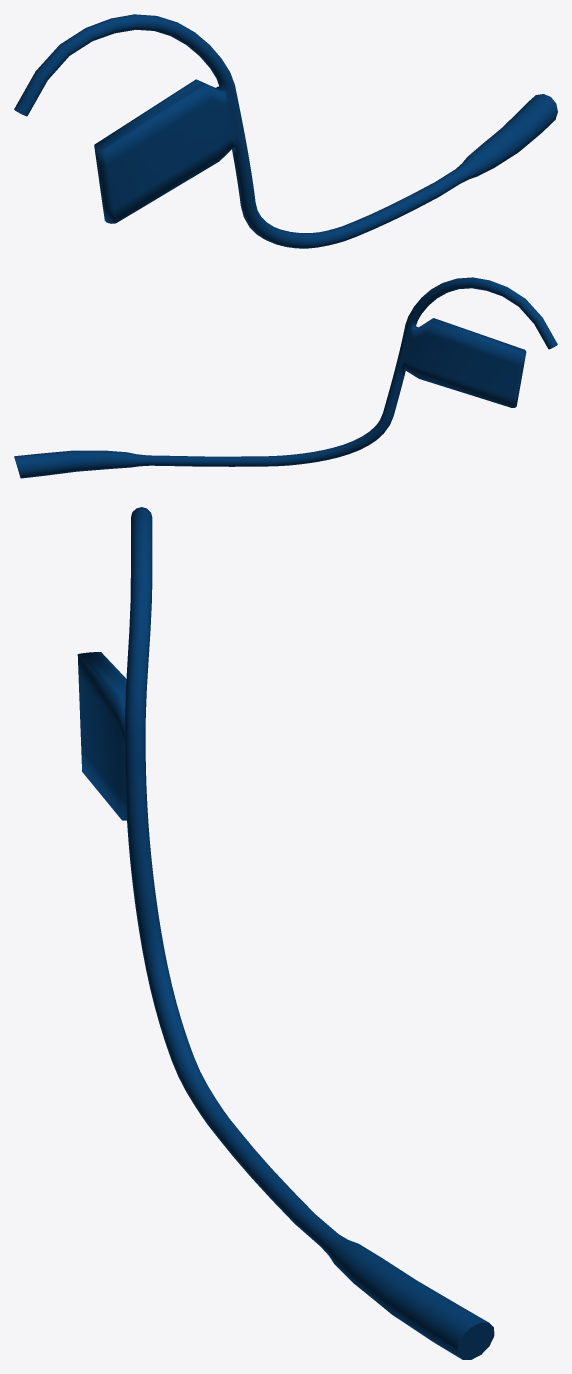
Rendered from mikrofon.fbx.
3 renders of one model, top to bottom at view 1: azimuth 30°, elevation 25°; view 2: azimuth 150°, elevation 25°; view 3: azimuth 270°, elevation 25°, orthographic. The views are drawn at different scales.
Parts seen in each view (by area): view 1: BezierCurve; view 2: BezierCurve; view 3: BezierCurve.
Boxes of the visible parts, x1=… form: BezierCurve: x1=14, y1=14, x2=557, y2=248; BezierCurve: x1=14, y1=277, x2=557, y2=478; BezierCurve: x1=77, y1=507, x2=494, y2=1359.
Size of the model in its own units: 53.59 by 25.5 by 20.9.
